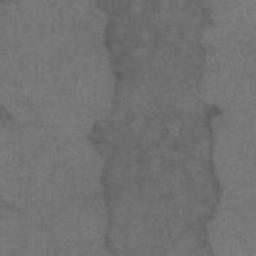Water spot: (91, 0, 223, 256), (0, 101, 13, 123)
